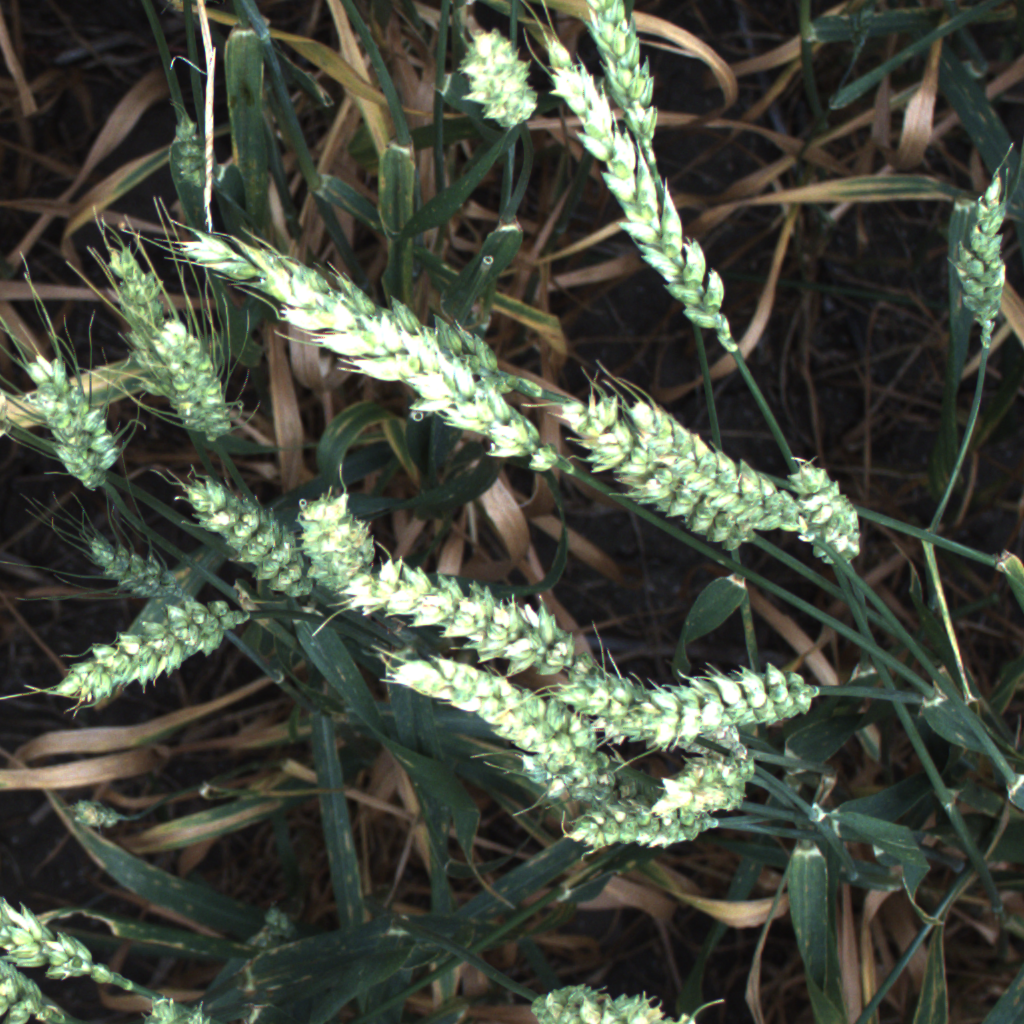wheat_head: (525, 0, 748, 366), (175, 229, 540, 404), (278, 288, 588, 493), (603, 384, 819, 551), (551, 397, 766, 551), (360, 538, 588, 683), (383, 640, 611, 778), (586, 646, 827, 763), (33, 582, 250, 701), (168, 464, 328, 615), (98, 231, 210, 398), (19, 340, 126, 498), (0, 886, 140, 995), (545, 781, 726, 864), (585, 0, 675, 166), (778, 434, 874, 588), (944, 170, 1019, 352), (143, 310, 239, 448), (286, 485, 392, 604), (444, 20, 547, 136), (636, 752, 764, 834), (525, 970, 712, 1021), (78, 525, 183, 608), (511, 747, 634, 797), (0, 957, 79, 1023), (63, 784, 142, 843)
